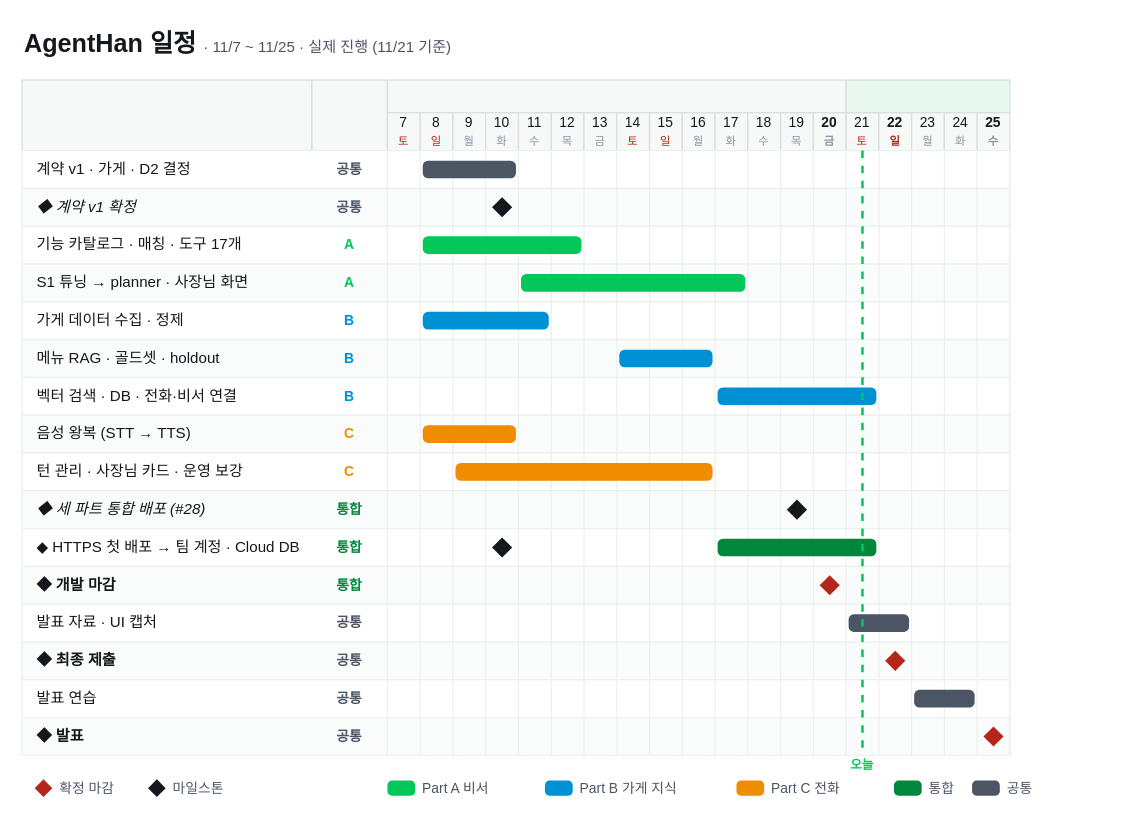
The diagram is 1140 pixels wide and 822 high, and some of its shapes have lost their labels. The shapes that lost their labels are listed below. From the top down, each one's centre as x and y in pixels, then its label:
At point (166, 115): "작업".
At point (349, 115): "파트".
At point (616, 96): "개발 (11/20 마감)".
At point (927, 96): "발표 준비".
